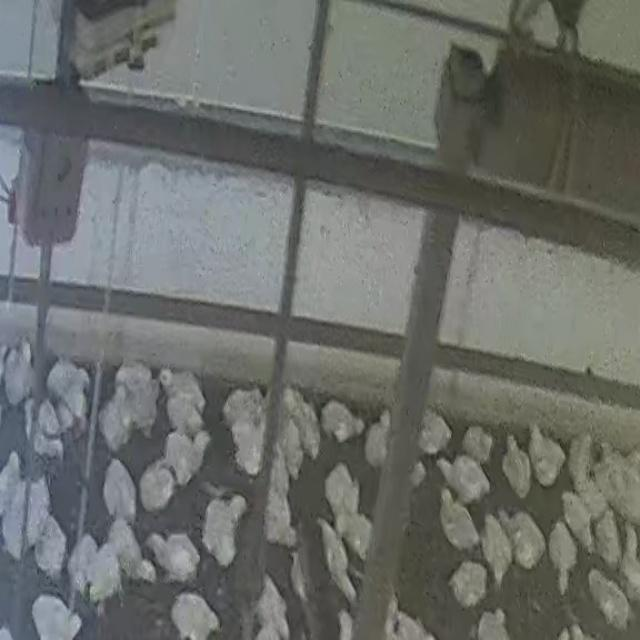chicken: (313, 518, 356, 606), (202, 491, 248, 567), (494, 504, 545, 570), (140, 533, 201, 583), (583, 566, 630, 628), (435, 486, 480, 550), (160, 429, 209, 487), (254, 572, 294, 640), (436, 454, 491, 503), (103, 460, 141, 529), (323, 464, 357, 540), (524, 421, 565, 484), (169, 589, 218, 640), (478, 512, 512, 585), (1, 335, 38, 401), (95, 383, 131, 450), (261, 483, 298, 548), (31, 593, 80, 640), (35, 516, 67, 585), (547, 525, 578, 596), (500, 428, 532, 496), (322, 400, 369, 443), (66, 531, 97, 595), (235, 417, 268, 477), (160, 369, 203, 415), (141, 456, 175, 514), (259, 440, 290, 503), (276, 415, 305, 480), (563, 495, 596, 552), (451, 561, 487, 611), (591, 509, 620, 569), (223, 387, 264, 429), (2, 450, 21, 524), (465, 426, 493, 462)
